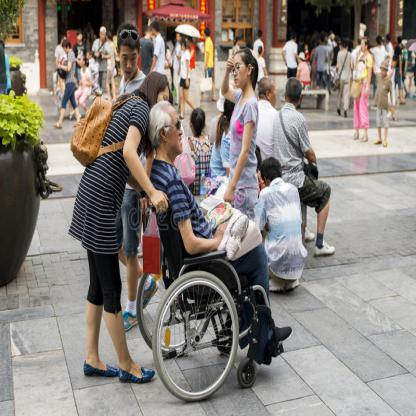wheelchair: (147, 101, 293, 399)
